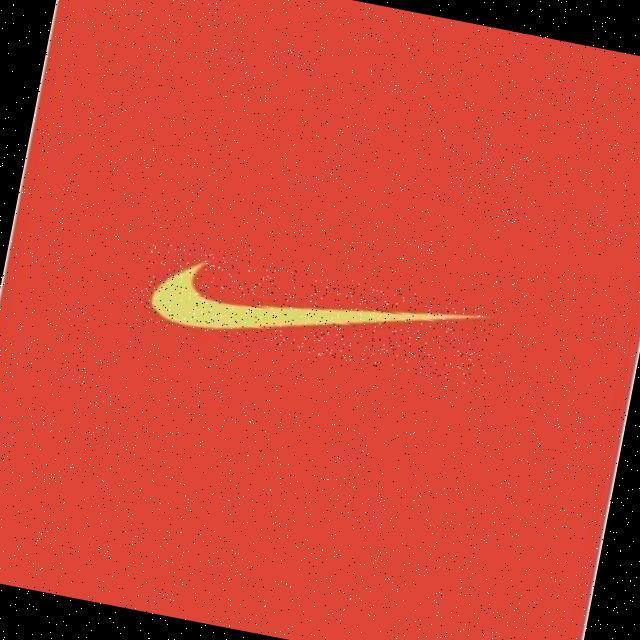Nike: (136, 242, 499, 388)
